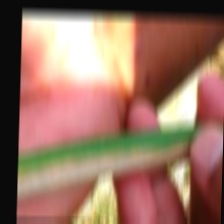Leaf_Blast: (38, 143, 208, 178)
